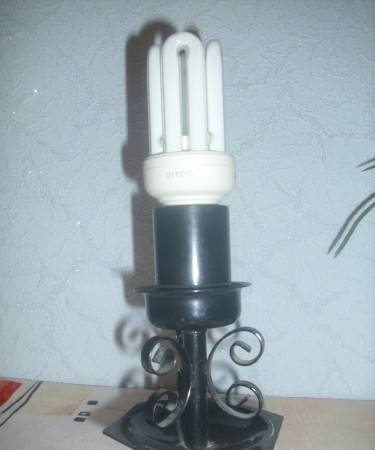Light_bulb: (141, 29, 239, 204)
